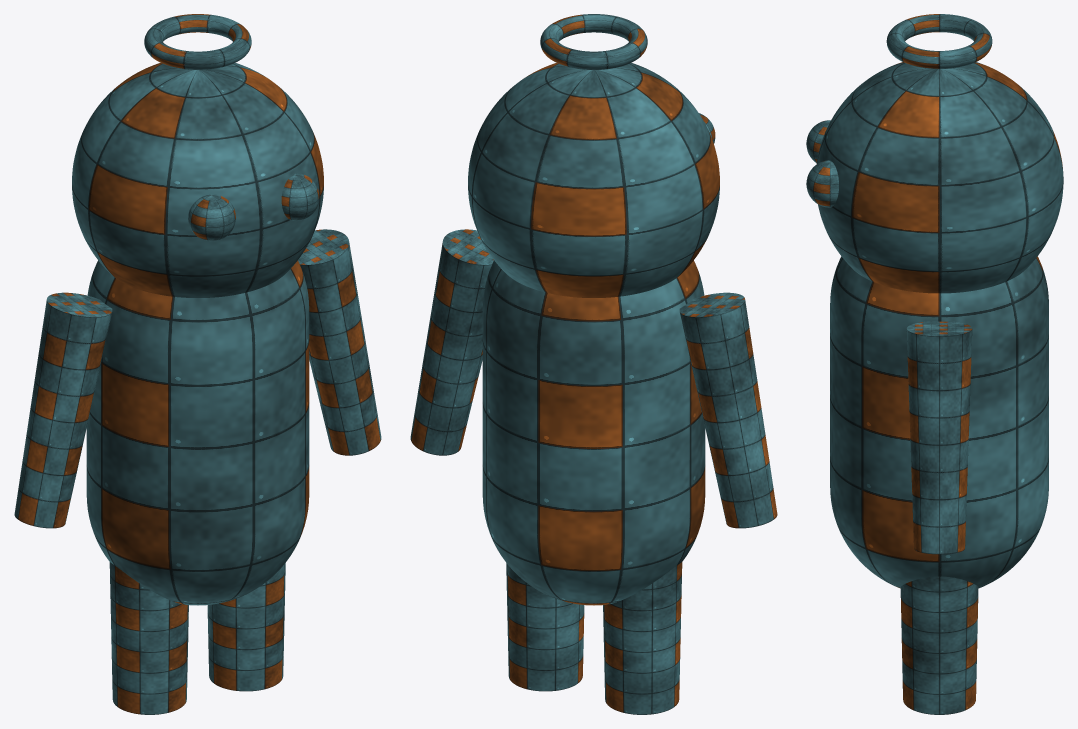
The model's file is robot.raw.glb.
3 renders of one model, left to right at view 1: azimuth 30°, elevation 25°; view 2: azimuth 150°, elevation 25°; view 3: azimuth 270°, elevation 25°, orthographic.
Parts seen in each view (by area): view 1: robot; view 2: robot; view 3: robot.
Boxes of the visible parts, left/top/right/bottom form: robot: left=14, top=14, right=381, bottom=714; robot: left=410, top=14, right=777, bottom=714; robot: left=806, top=14, right=1063, bottom=714.
Bounding box in the file's own units: 1.12 × 1.95 × 0.705.
1 material, 1 textured.
